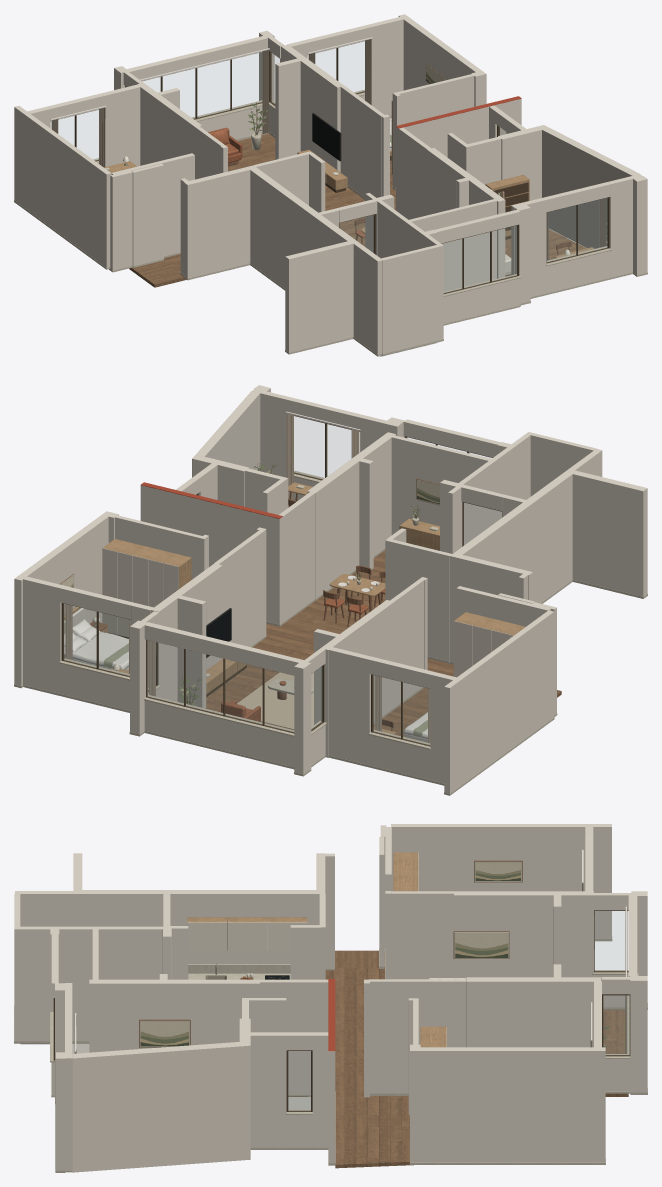
File: whole-home.glb
The picture shows the model from 3 angles, top to bottom: view 1: azimuth 30°, elevation 25°; view 2: azimuth 150°, elevation 25°; view 3: azimuth 270°, elevation 25°; orthographic projection. The views are drawn at different scales.
Parts seen in each view (by area): view 1: 墙 01, 结构墙 24, 结构墙 10, 结构墙 23, 墙 32, 原图斜向结构墙 1, 透明窗玻璃.001, 墙 16, 墙 43, 透明窗玻璃.008, 结构墙 03, 结构墙 15 (+42 smaller); view 2: 墙 01, 结构墙 24, 结构墙 23, 透明窗玻璃.001, 结构墙 34, 拉直墙 45, 木地面.001, 墙 43, 结构墙 19, 原窗下墙 1, 墙 02.001, 墙 26 (+55 smaller); view 3: 结构墙 19, 原图斜向结构墙 1, 墙 01, 墙 31, 结构墙 03, 结构墙 34, 结构墙 23, 结构墙 15, 墙 16, 墙 04, 木地面.002, 木地面.001 (+41 smaller).
Boxes of the visible parts, x1,y1,x2,y2 form: 墙 01: (14, 106, 111, 267); 结构墙 24: (285, 241, 353, 352); 结构墙 10: (184, 166, 252, 278); 结构墙 23: (250, 165, 357, 288); 墙 32: (381, 244, 443, 353); 原图斜向结构墙 1: (540, 125, 639, 248); 透明窗玻璃.001: (143, 53, 261, 118); 墙 16: (340, 85, 383, 197); 墙 43: (408, 197, 502, 291); 透明窗玻璃.008: (443, 226, 516, 292); 结构墙 03: (137, 83, 201, 179); 结构墙 15: (281, 44, 343, 172); 墙 01: (444, 610, 554, 793); 结构墙 24: (571, 470, 647, 596); 结构墙 23: (450, 469, 575, 662); 透明窗玻璃.001: (147, 640, 293, 731); 结构墙 34: (307, 432, 395, 598); 拉直墙 45: (140, 485, 282, 624); 木地面.001: (206, 550, 453, 729); 墙 43: (385, 433, 491, 534); 结构墙 19: (14, 511, 112, 685); 原窗下墙 1: (144, 700, 294, 766); 墙 02.001: (328, 647, 372, 765); 墙 26: (385, 539, 451, 661); 结构墙 19: (410, 1047, 605, 1162); 原图斜向结构墙 1: (72, 1041, 250, 1172); 墙 01: (391, 824, 611, 938); 墙 31: (19, 926, 163, 1041); 结构墙 03: (454, 891, 593, 977); 结构墙 34: (89, 979, 260, 1052); 结构墙 23: (74, 890, 325, 964); 结构墙 15: (466, 977, 600, 1047); 墙 16: (369, 979, 465, 1093); 墙 04: (392, 891, 453, 979); 木地面.002: (335, 1096, 413, 1168); 木地面.001: (288, 968, 628, 1096).
Bounding box in the file's own units: 12.78 × 3.01 × 14.59.
29 materials, 11 textured.
